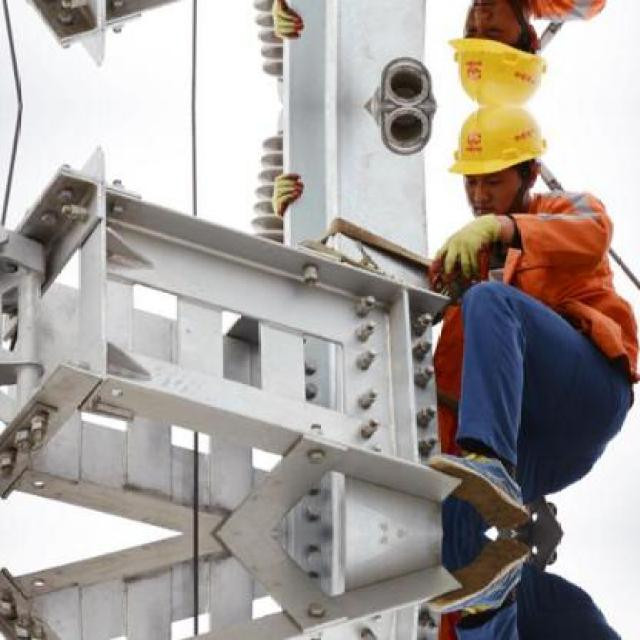helmet: (440, 105, 554, 222), (440, 0, 555, 108)
